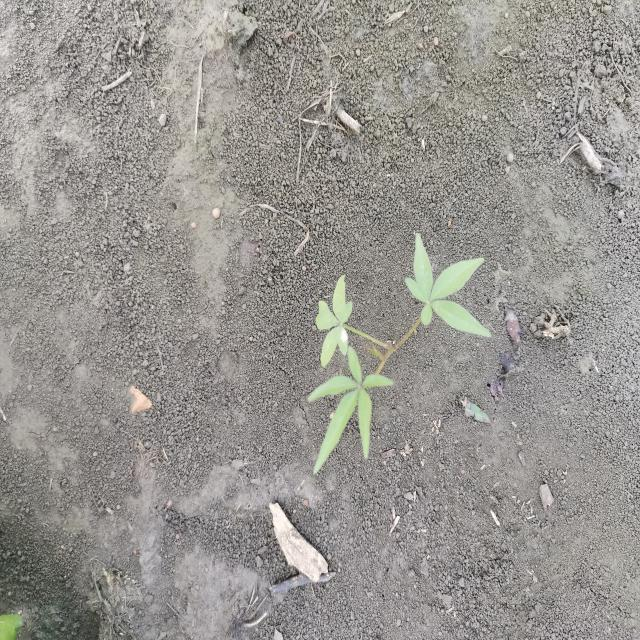MorningGlory: (306, 230, 494, 478)
